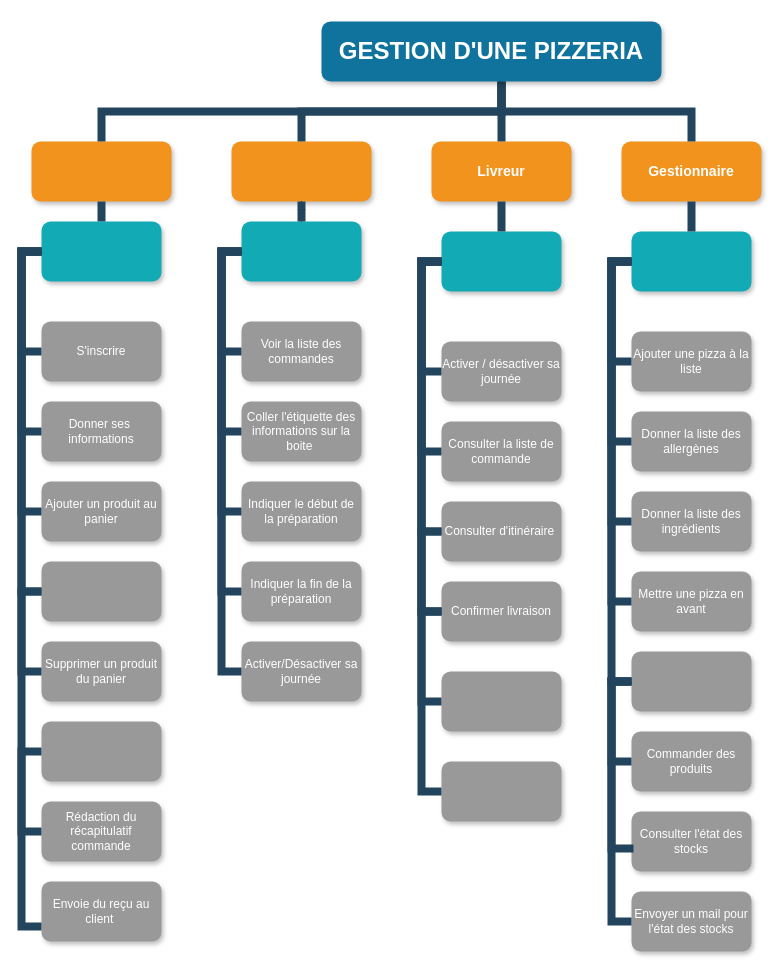
This 784x975 diagram has some shape labels left out. The shapes that lost their labels are listed below. From the top down, each one's centre as x and y in pixels, then its label:
point 102,172: Client
point 302,172: Pizzaiolo
point 102,252: Passer commande
point 302,252: Préparation d'une commande
point 502,262: réception d'une commande
point 692,262: Gérer les pizzas/Gérer les stocks
point 102,592: Consulter son panier
point 502,702: Indiquer le retard de livraison
point 692,682: Consulter les alertes pour les produits
point 102,752: Payer sa commande
point 502,792: Alimenter un compte de réduction pour le client
